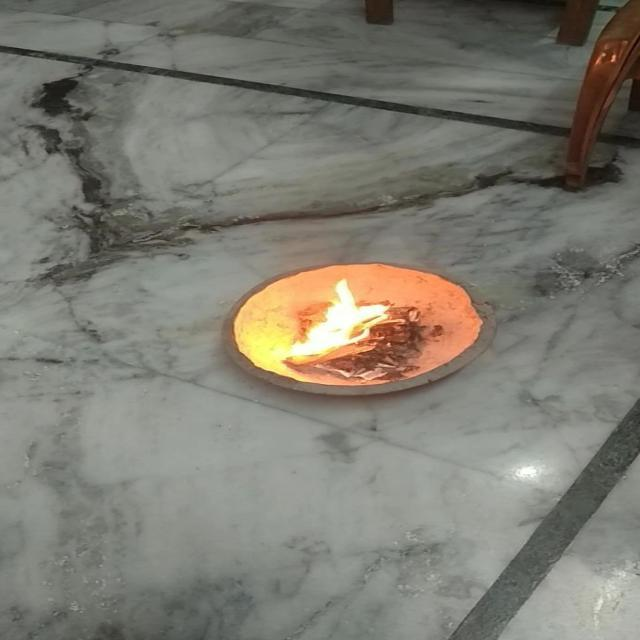smoke: (288, 276, 396, 358)
